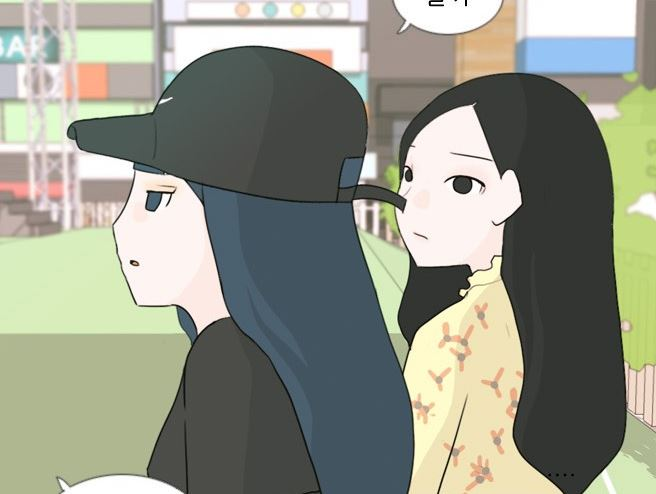hat: (63, 43, 368, 204)
